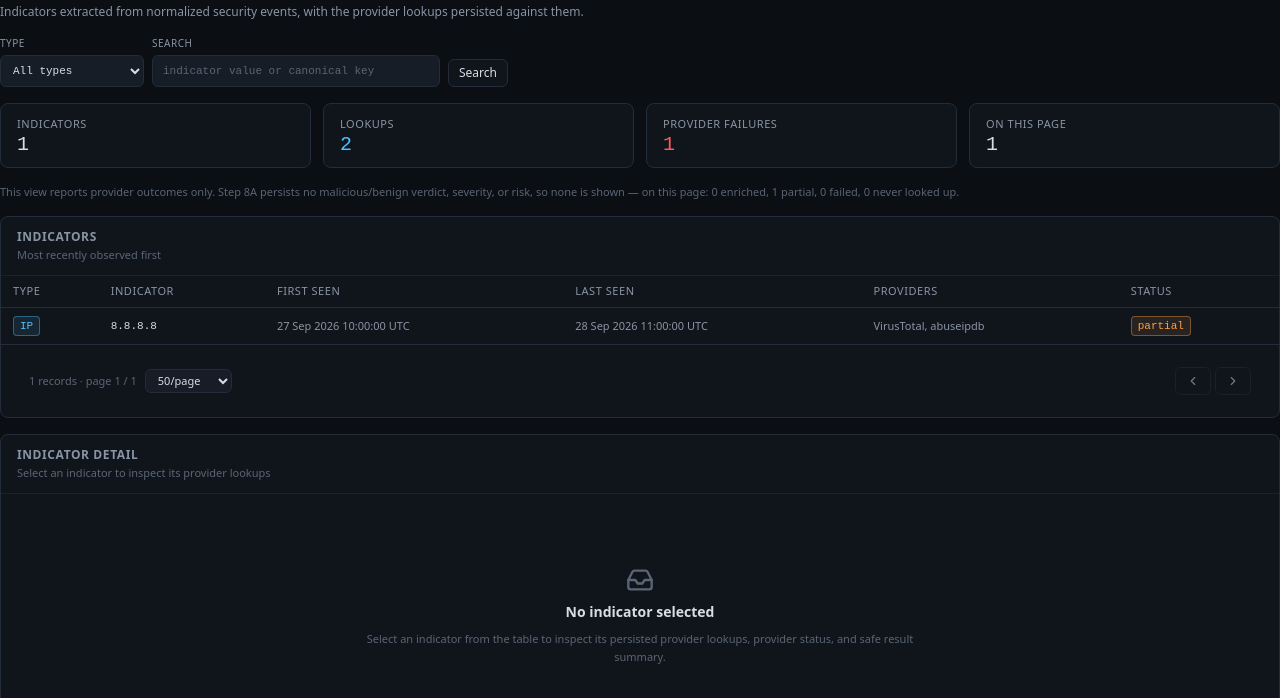
Test: ThreatIntelPage — Step 8A read surface › renders a failed provider lookup as FAILED and never as a malicious verdict
Click the row with test id "ti-indicator-row" at [640, 326], box [1,308,1279,344]
(page scrolled)
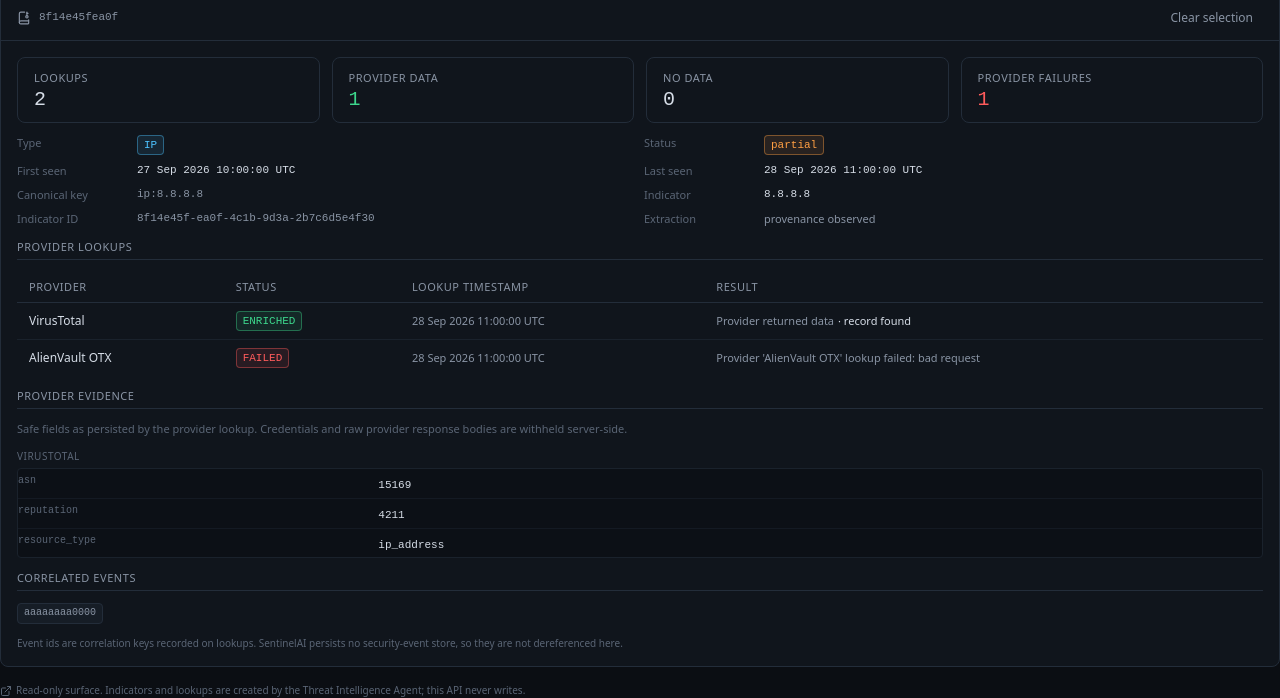
Expected: the element with test id "ti-detail-panel" does not show "malicious"
Now the text with test id "ti-lookup-status" reads "FAILED", box [243,352,282,364]
Now the text with test id "ti-lookup-error" shows "bad request", box [716,350,980,365]
